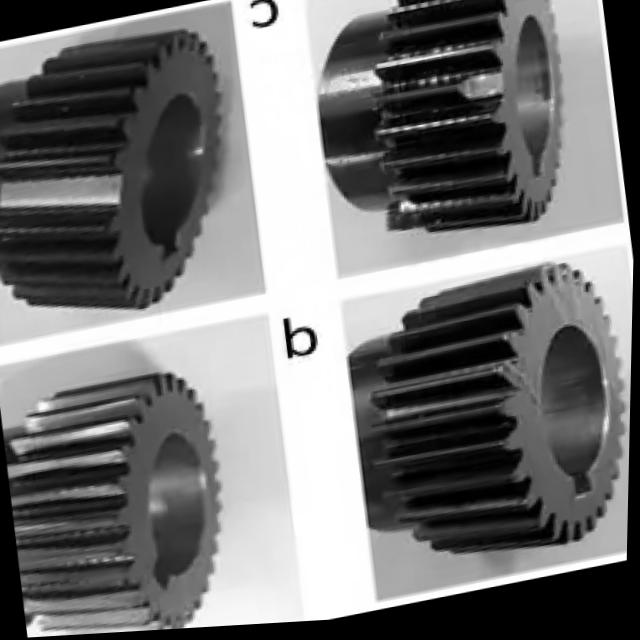Fault-Exist: (0, 113, 153, 310), (363, 6, 519, 174)
